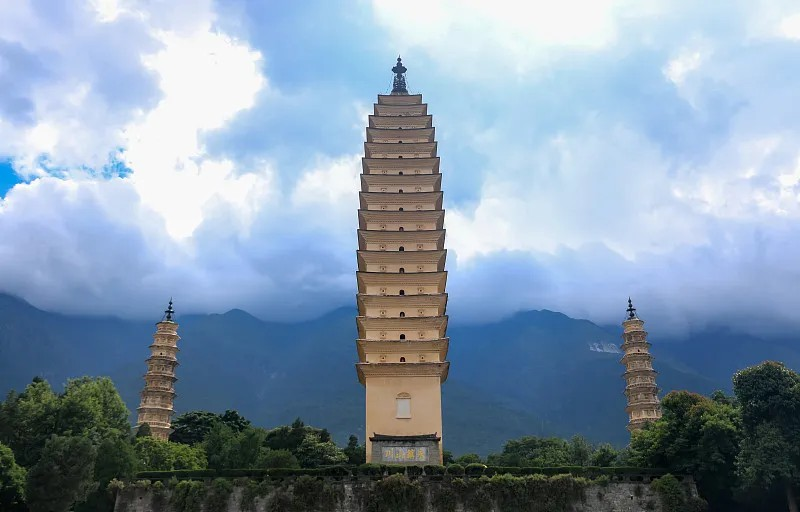ThreePagoda: (355, 56, 450, 464)
